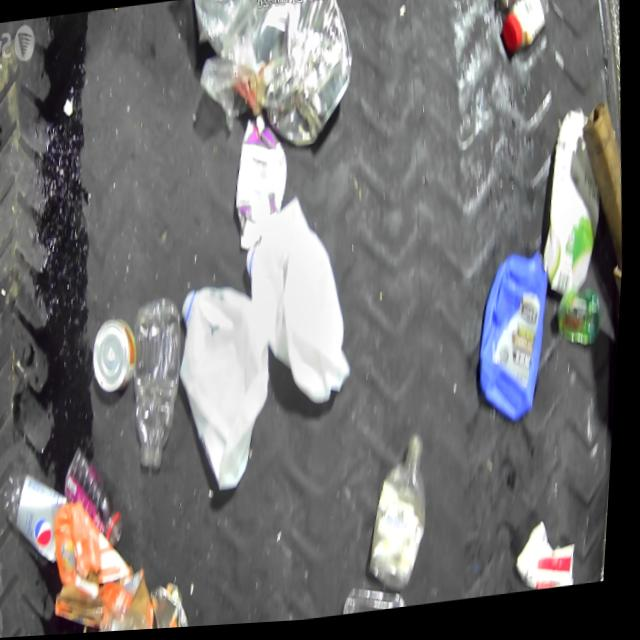can: (243, 0, 361, 158), (90, 314, 143, 399), (154, 578, 201, 631)
milk_jug: (235, 189, 366, 421), (169, 277, 288, 500)
non_white_jug: (469, 249, 564, 436)
plastic_bottle: (361, 435, 445, 603), (126, 295, 195, 477), (60, 440, 135, 554)
